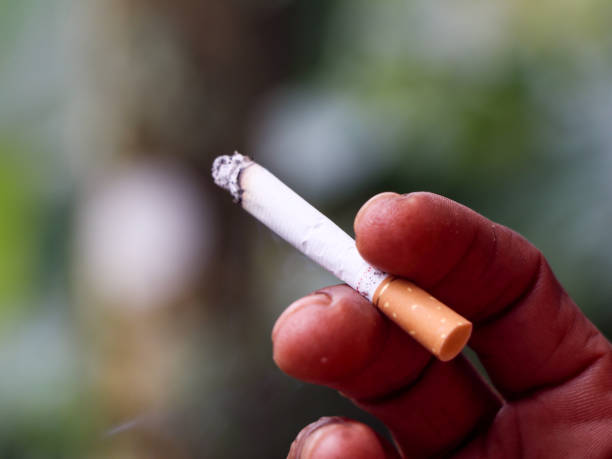cigarette: (211, 149, 474, 364)
